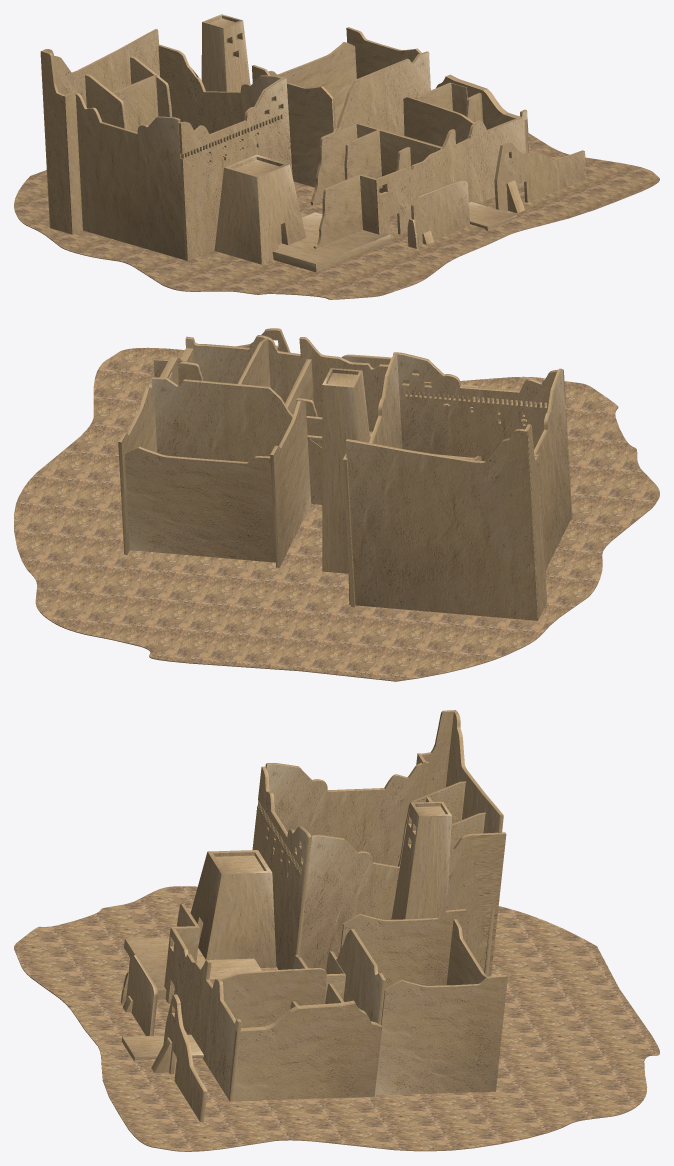
The model's file is set2.fbx.
3 views of the same model, one above another, from view 1: azimuth 30°, elevation 25°; view 2: azimuth 150°, elevation 25°; view 3: azimuth 270°, elevation 25° (orthographic). The views are drawn at different scales.
Visible parts, largest first — view 1: Mud_house; view 2: Mud_house; view 3: Mud_house.
Boxes of the visible parts, x1,y1,x2,y2 form: Mud_house: [14, 14, 659, 299]; Mud_house: [14, 328, 659, 681]; Mud_house: [14, 710, 659, 1151].
Size of the model in its own units: 2775 by 993 by 2709.
2 materials, 2 textured.
